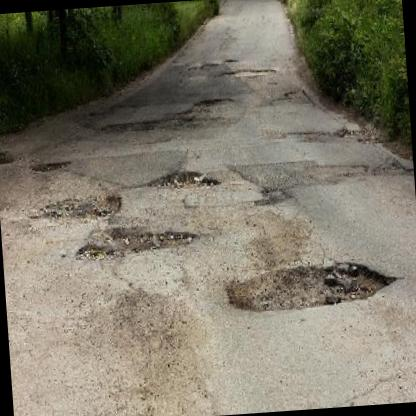pothole: (221, 254, 398, 316), (72, 218, 200, 264), (40, 192, 122, 225), (145, 166, 220, 192), (251, 184, 293, 210), (28, 156, 70, 173), (219, 66, 276, 78), (192, 95, 234, 109), (0, 150, 14, 163)
